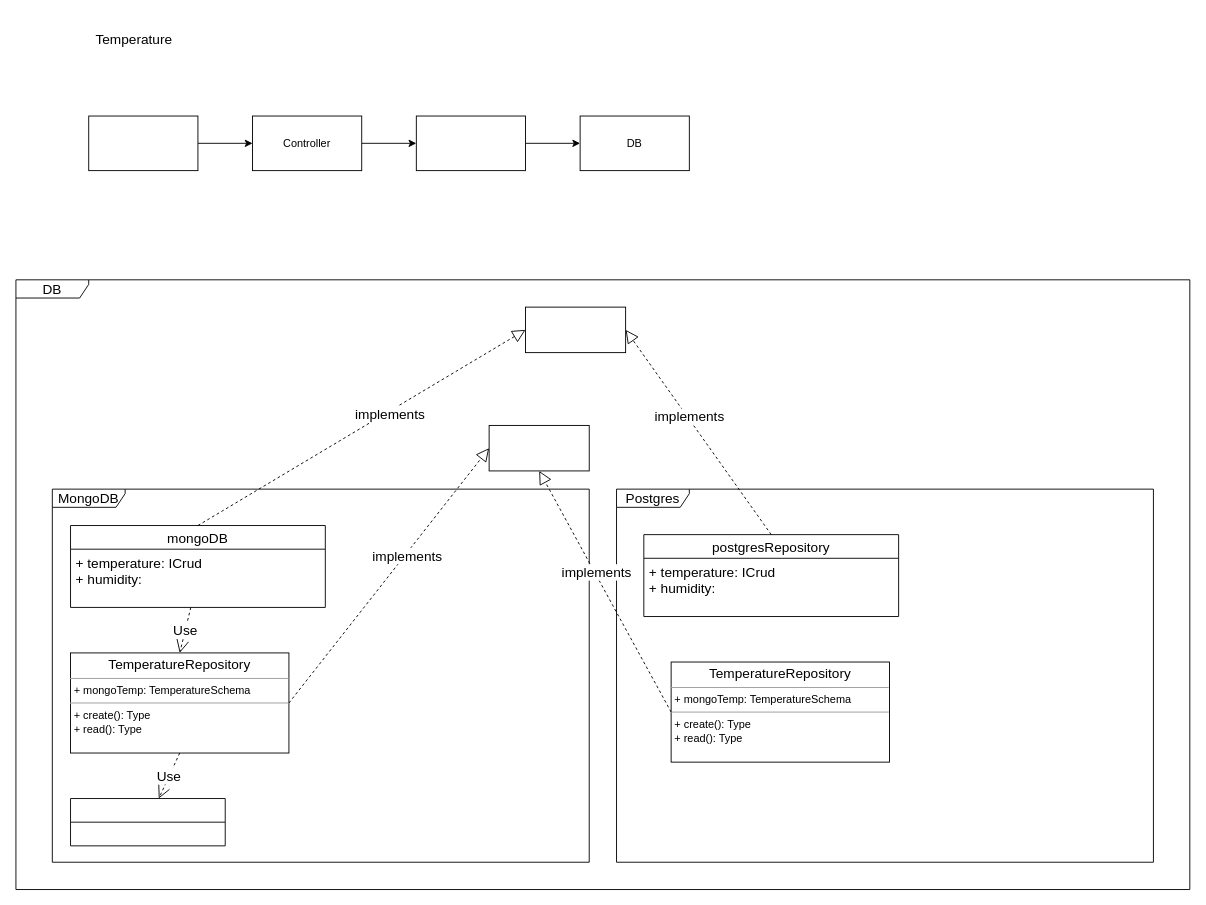
Some shapes in this 1206 by 905 pixel diagram are drawn without their labels. Each missing label, with the centre of its shape:
"Routes" belongs at (x=143, y=143).
"Service" belongs at (x=470, y=143).
"TemperatureSchema" belongs at (x=147, y=822).
"«interface» ICrud" belongs at (x=538, y=448).
"«interface» IDatabase" belongs at (x=575, y=329).
